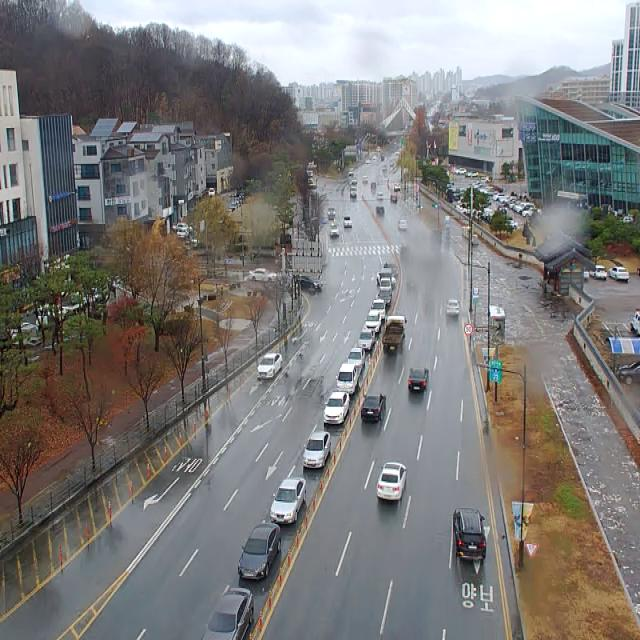Car: (202, 586, 254, 640), (238, 522, 281, 579), (270, 478, 306, 523), (453, 509, 485, 559), (377, 462, 407, 500), (302, 432, 330, 469), (324, 392, 349, 424), (361, 394, 386, 420), (257, 353, 282, 378), (615, 362, 640, 384), (408, 368, 428, 391), (296, 276, 322, 293), (348, 348, 365, 370), (249, 269, 277, 282), (358, 329, 375, 350), (364, 311, 381, 332), (376, 271, 396, 287), (371, 299, 386, 319), (608, 267, 629, 281), (588, 266, 607, 280), (379, 272, 392, 290), (384, 262, 399, 277), (378, 291, 392, 306), (447, 299, 459, 316), (177, 226, 189, 238), (330, 225, 340, 238), (344, 217, 352, 228), (399, 220, 407, 230), (350, 187, 357, 198), (376, 206, 385, 214), (328, 208, 335, 218), (209, 187, 215, 197), (378, 192, 383, 200)
Truck: (382, 316, 407, 352), (336, 364, 361, 394), (630, 309, 640, 336)
